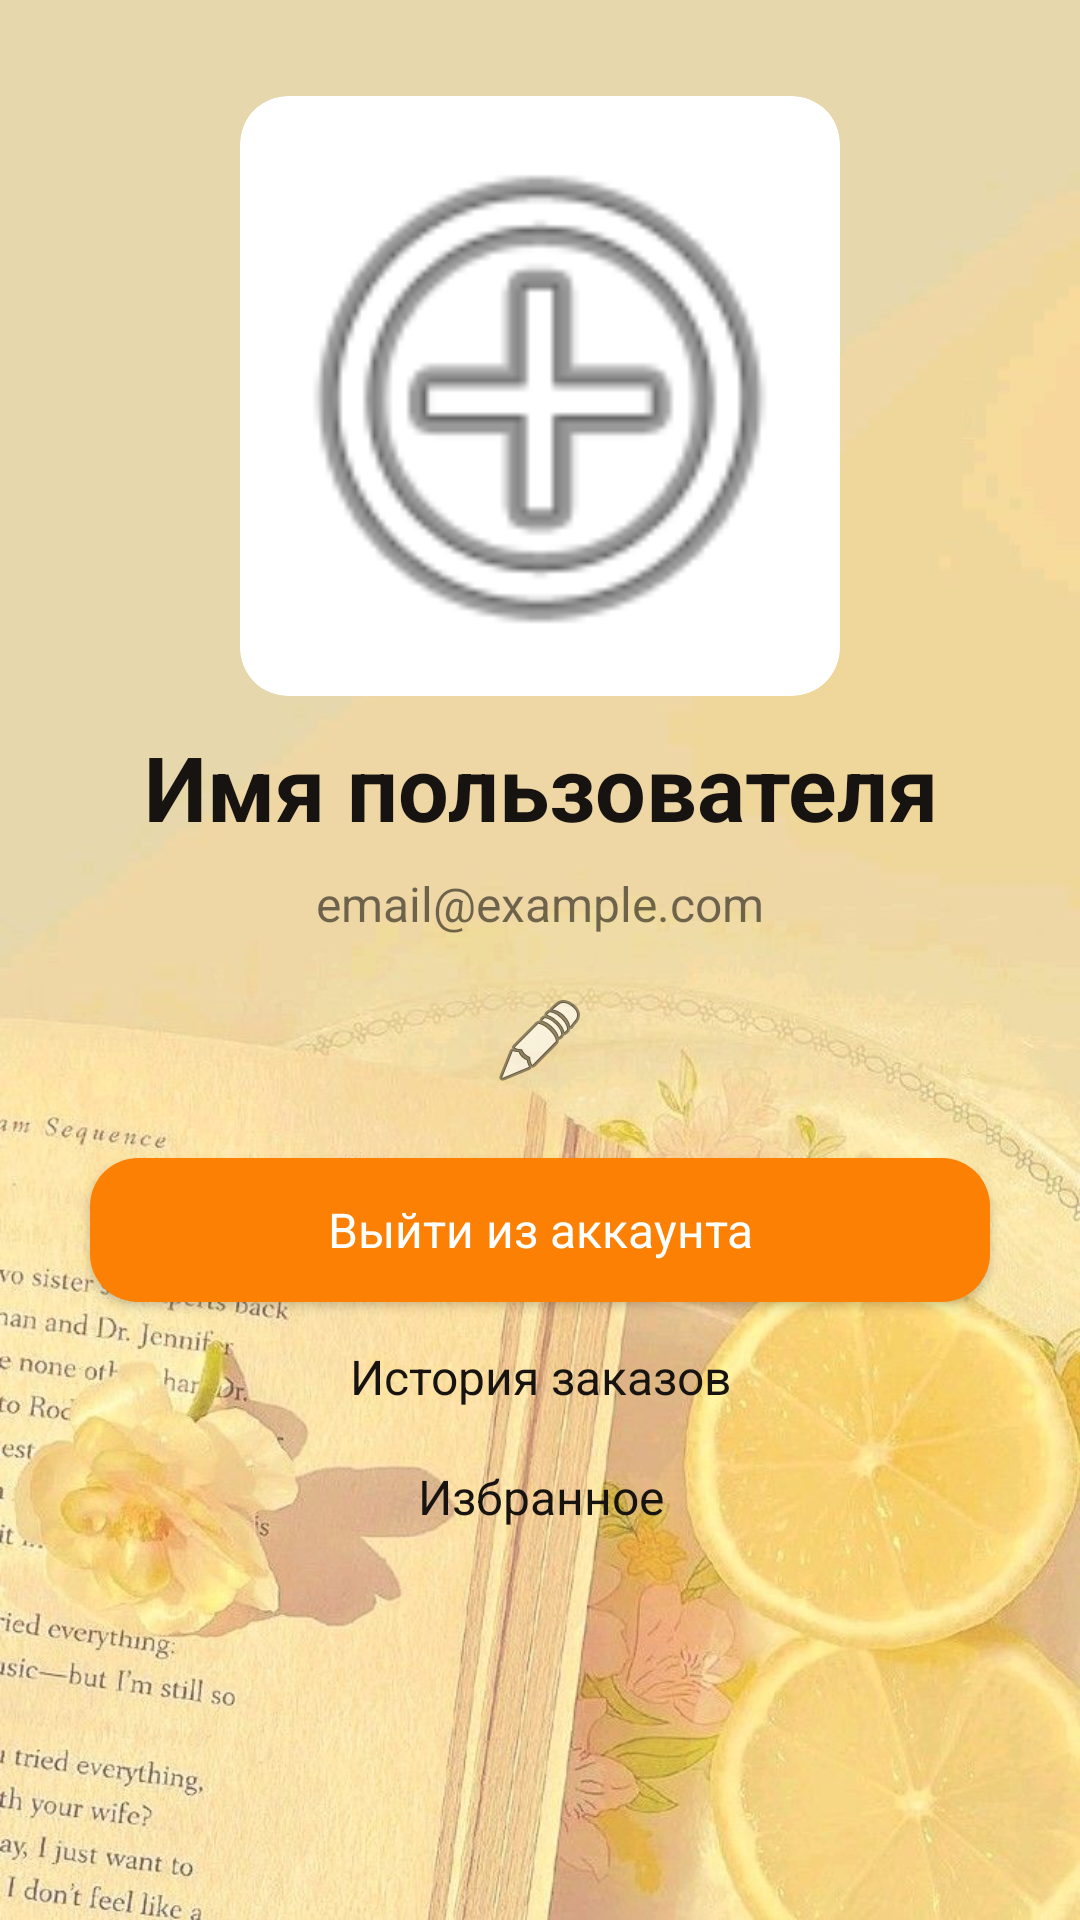

Point at icon controls on the screen. Image size 1080x1920, points as (x=x, y=y).
edit: (x=541, y=1053)
